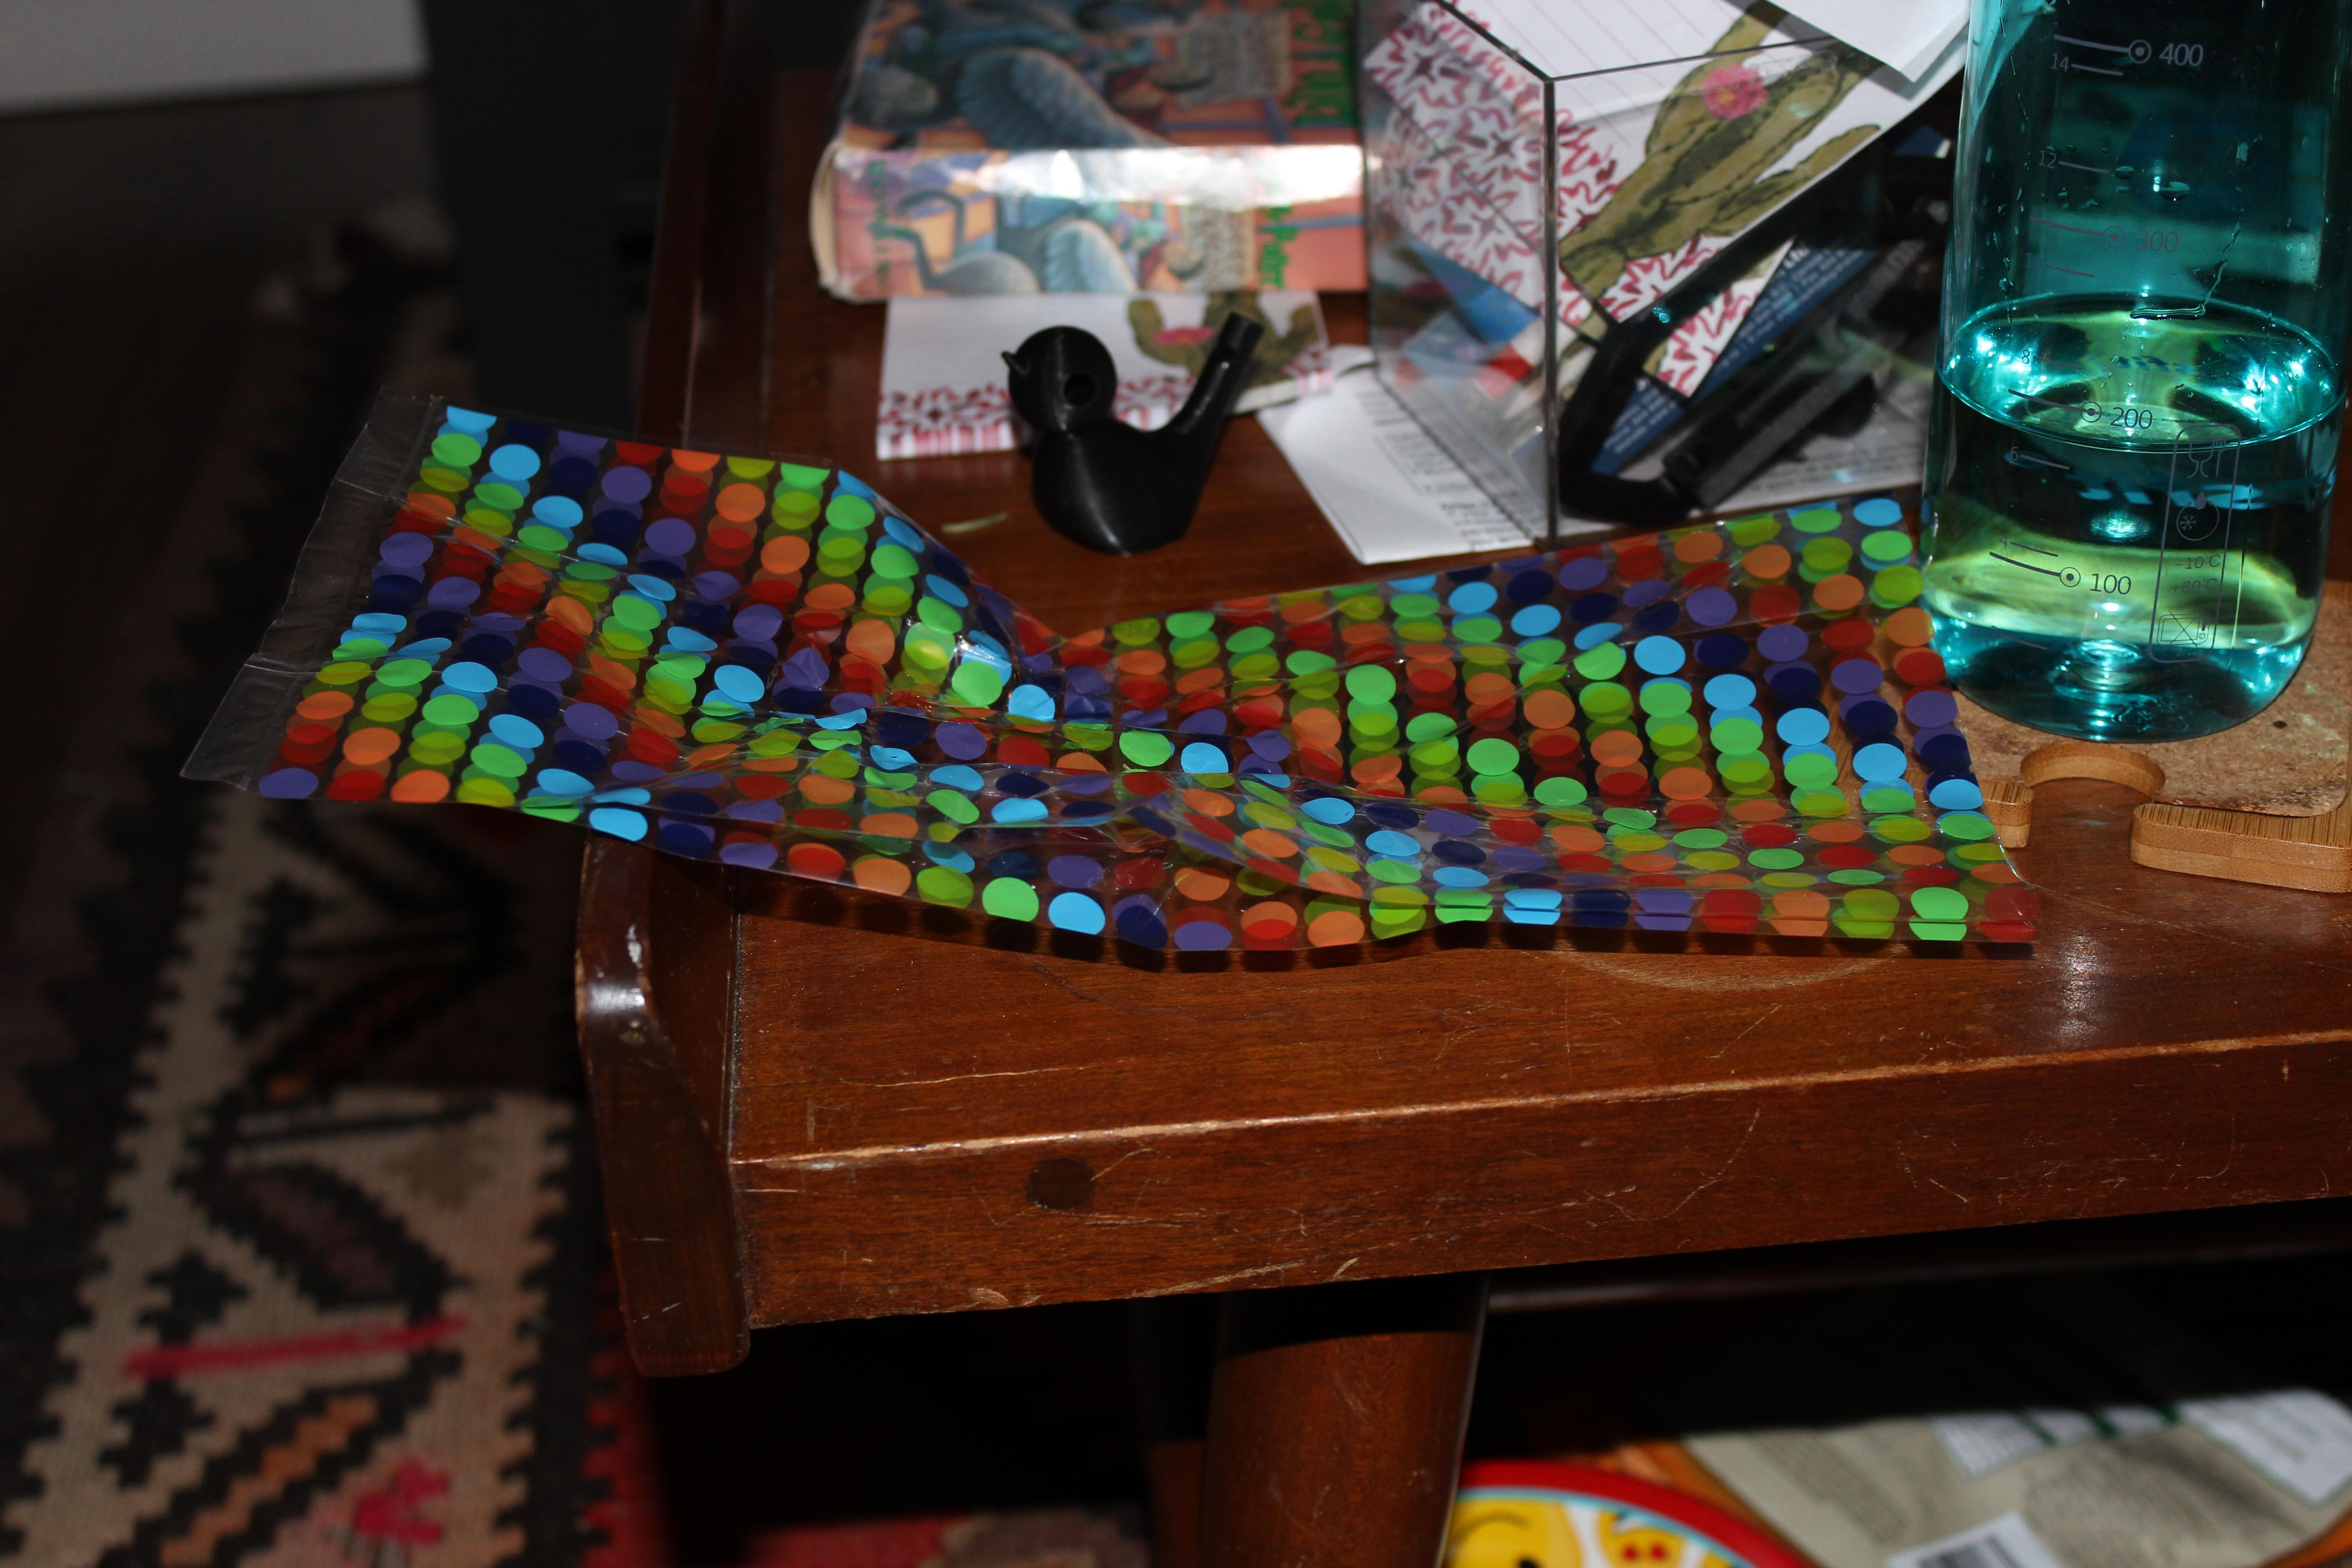giftBag: (161, 371, 2063, 987)
